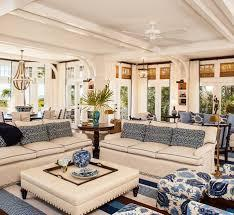chair: (158, 168, 209, 212), (186, 179, 234, 215), (200, 126, 233, 164), (223, 111, 234, 135), (201, 113, 215, 128), (178, 110, 191, 123), (9, 110, 19, 124), (18, 113, 32, 122), (68, 108, 75, 124), (34, 111, 49, 118), (0, 110, 8, 123), (56, 108, 63, 121), (50, 109, 56, 119)
door: (77, 60, 95, 120), (61, 61, 79, 119)
fan: (113, 19, 195, 50)
light: (12, 51, 34, 95), (134, 59, 153, 81)
sofa: (101, 120, 218, 177), (0, 118, 92, 189)
table: (22, 160, 142, 214), (76, 122, 113, 157), (2, 113, 44, 121), (163, 116, 179, 124)
